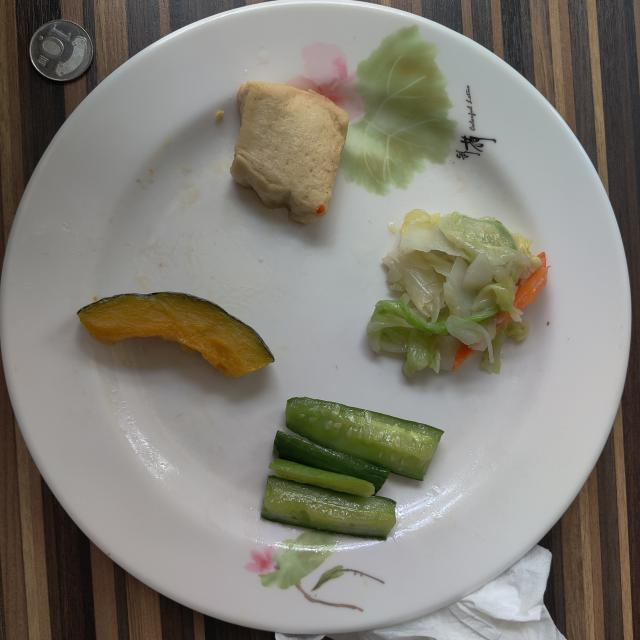cabbage: (366, 209, 548, 376)
coin: (30, 20, 92, 81)
creamy tofu -without sauce-: (230, 81, 349, 224)
cucumber: (261, 398, 442, 540)
pumpkin: (78, 292, 274, 376)
